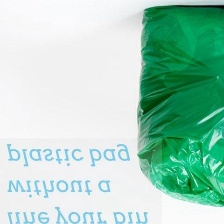plastic_bag: (135, 3, 223, 209)
